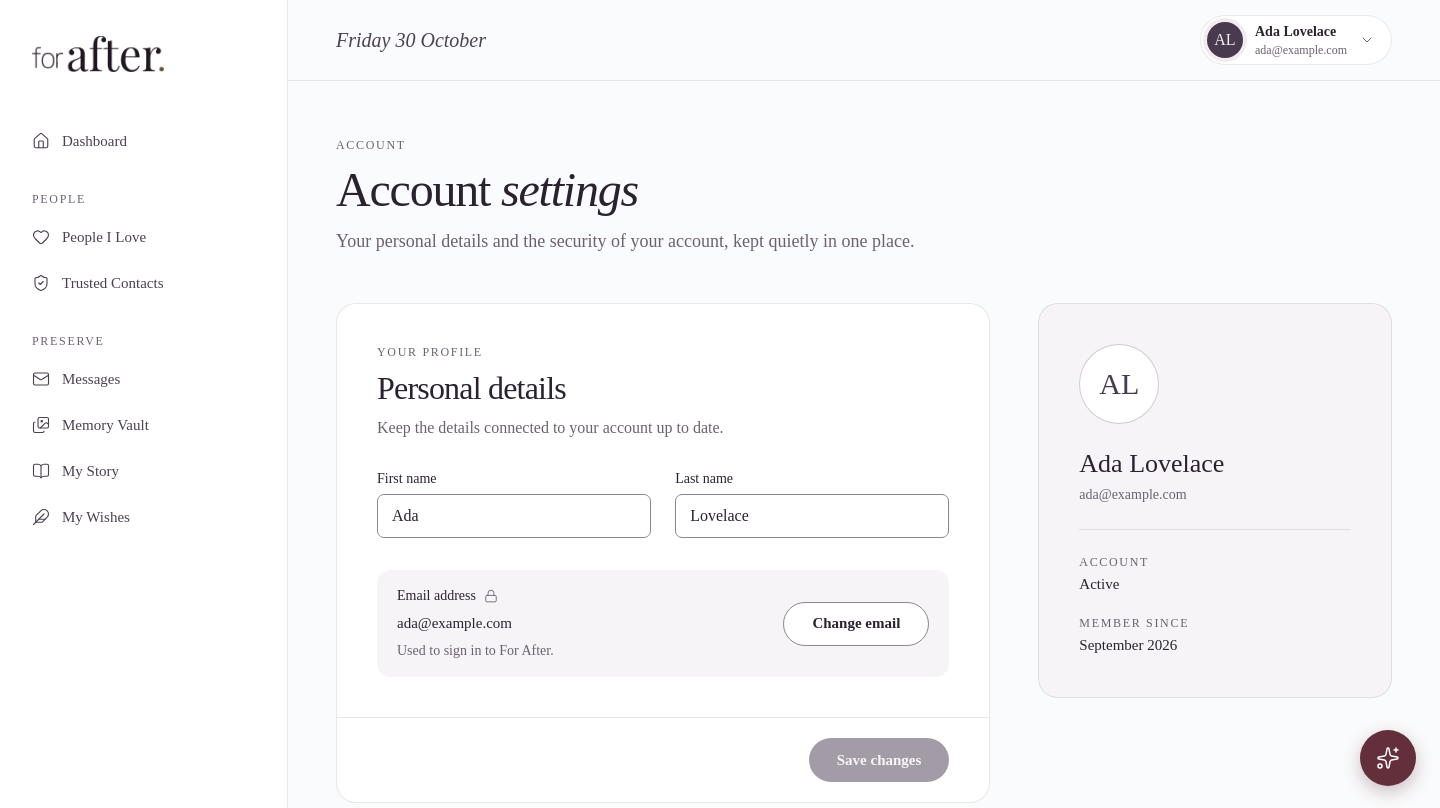
Account settings: profile › keeps typed values and shows a safe error when saving fails
The width and height of the screenshot is (1440, 808).
Expected: the element "Personal details" is shown, [336,303,990,803]
Replace the text in the field labelled "First name" with "Augusta": (514, 516) [377,494,651,538]
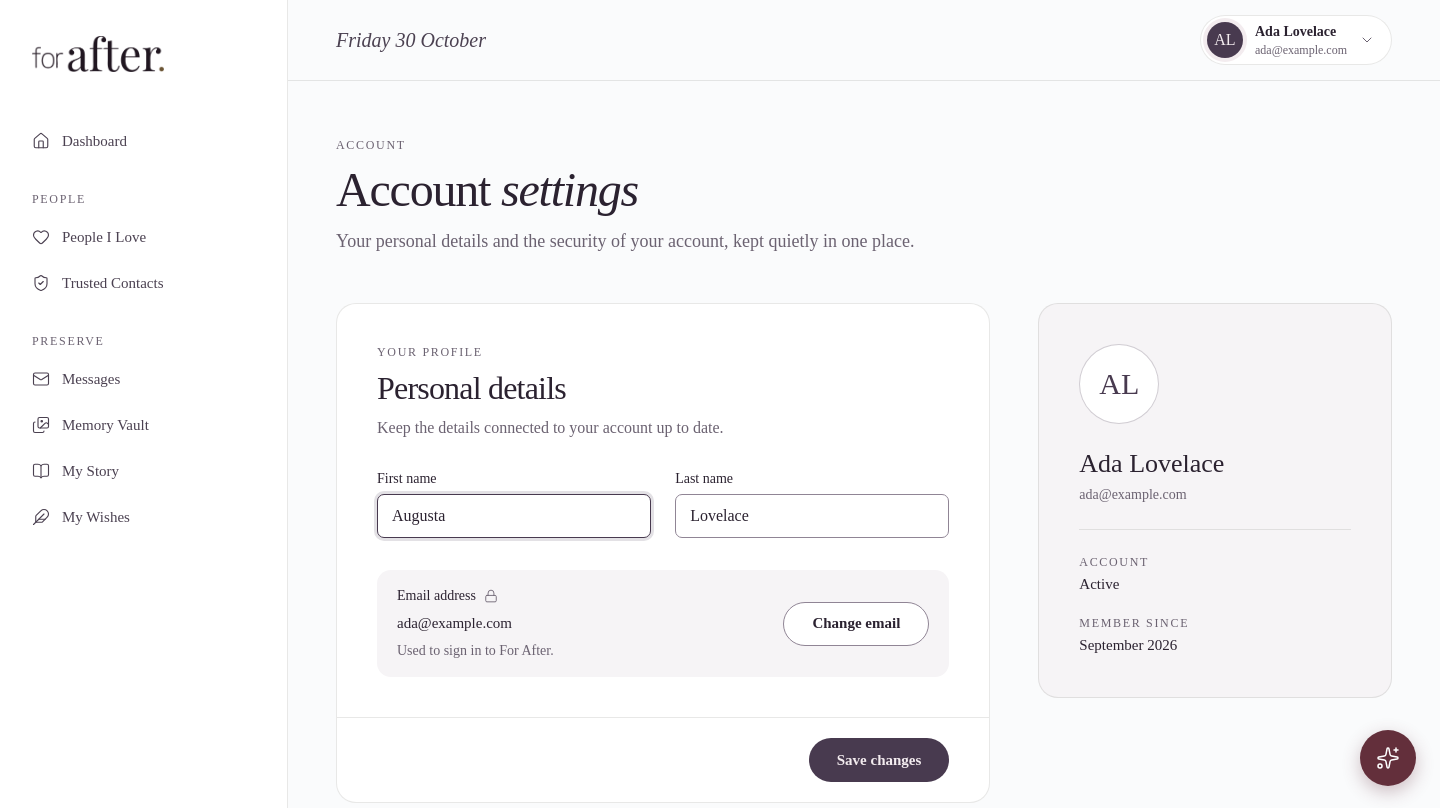
Click the button "Save changes": (879, 760) [809,738,949,782]
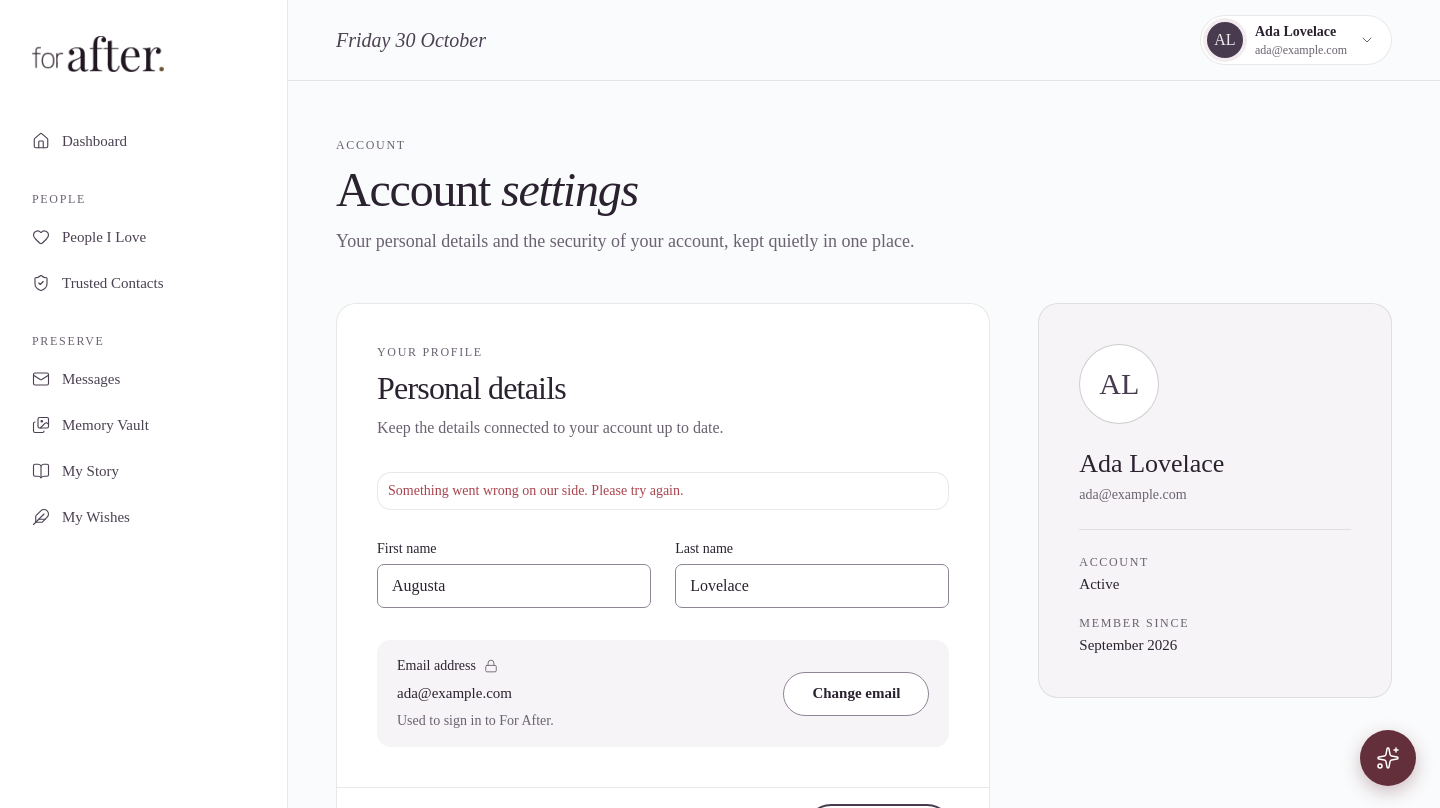
Expected: the button with aria-label "Account: Ada Lovelace" is shown, [1200,15,1392,65]
Now the text "Something went wrong on our side. Please try again." is shown, box [388,483,684,498]
